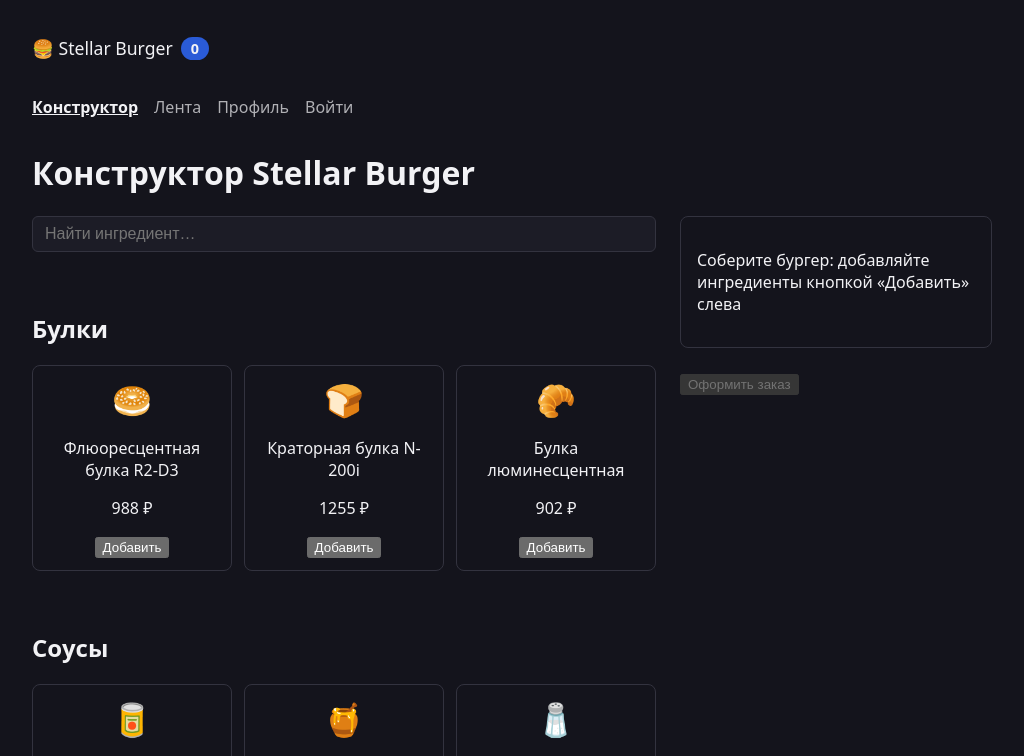
App — модальный маршрут › клик по карточке открывает модалку поверх конструктора, фон остаётся на экране
Click the text "Флюоресцентная булка R2-D3" at (132, 459), box [64,437,200,481]
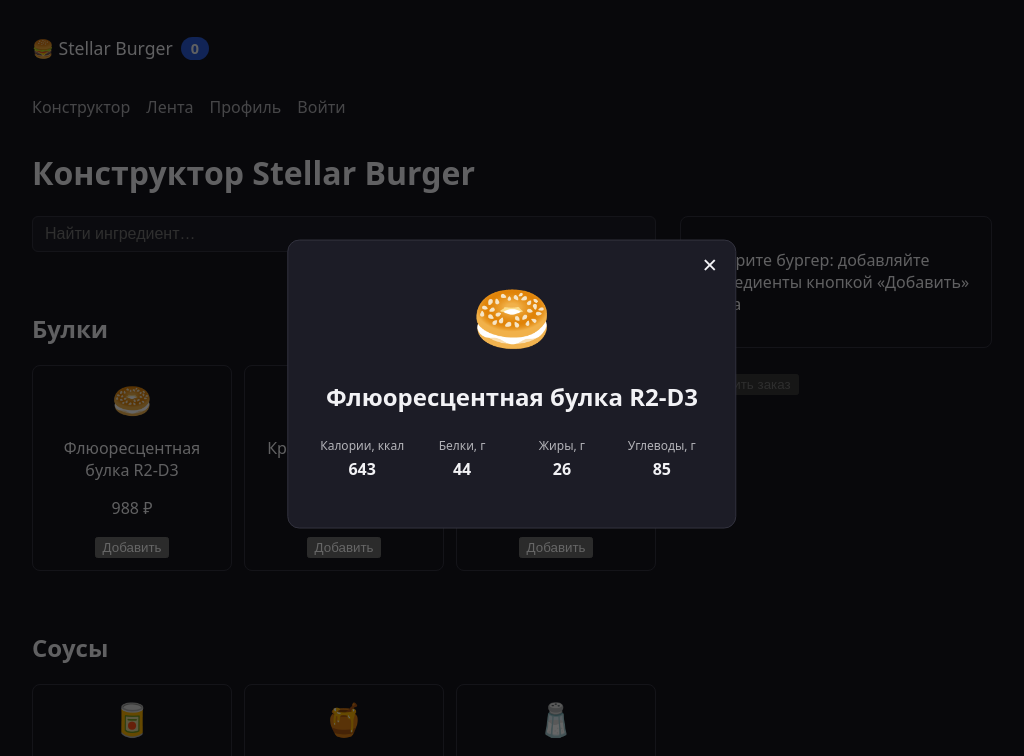
Expected: the heading "Булки" is shown, [32,312,108,345]
Result: the heading "Флюоресцентная булка R2-D3" is shown at [320,380,704,412]
Result: the text "Калории, ккал" is shown at [320,436,404,454]
